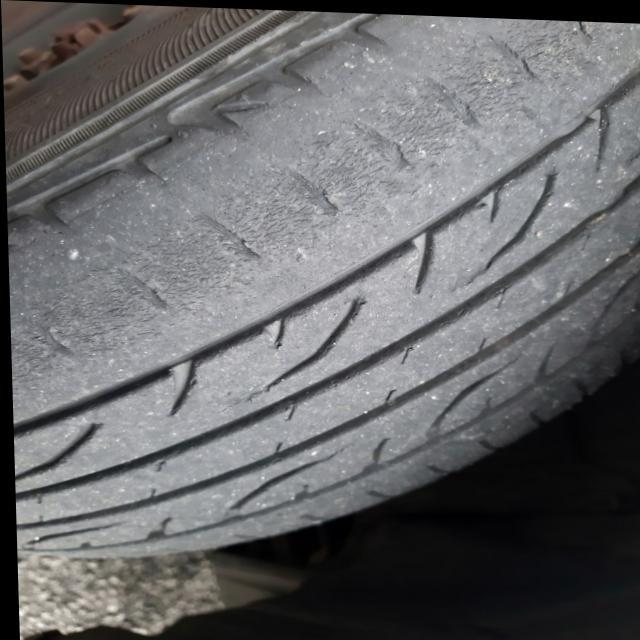Flat spots: (275, 12, 621, 126), (7, 136, 454, 200), (0, 229, 193, 355), (217, 222, 346, 271)
Non-defective: (213, 318, 640, 415), (18, 429, 320, 545), (510, 179, 640, 311)
